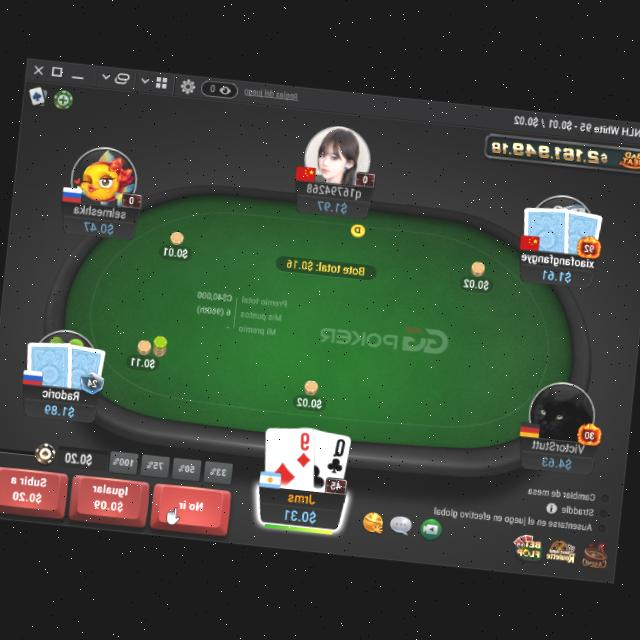9d: (294, 428, 314, 467)
Qc: (324, 434, 346, 474)
bet_text: (129, 352, 157, 368), (462, 274, 491, 288), (162, 242, 189, 257), (295, 393, 322, 407)
card_back: (22, 332, 77, 388), (518, 198, 574, 252), (556, 204, 606, 256), (61, 338, 107, 388)
dealer: (348, 219, 368, 238)
hero_active: (0, 459, 234, 534)
pot_text: (283, 254, 368, 276)
stack_text: (282, 501, 318, 523), (82, 216, 116, 233), (315, 195, 349, 212), (540, 265, 572, 282), (540, 451, 572, 468), (44, 398, 76, 414)
